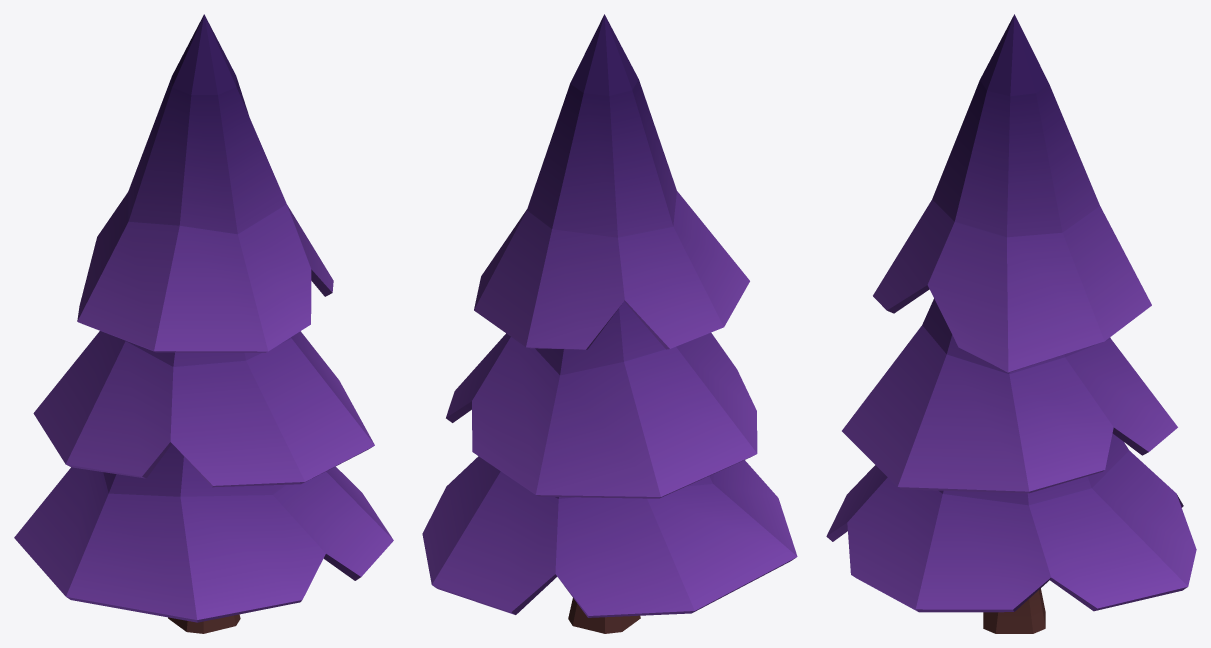
The model's file is MagicPine2.fbx.
3 renders of one model, left to right at view 1: azimuth 30°, elevation 25°; view 2: azimuth 150°, elevation 25°; view 3: azimuth 270°, elevation 25°, orthographic.
Parts seen in each view (by area): view 1: MagicPine2; view 2: MagicPine2; view 3: MagicPine2.
Boxes of the visible parts, left/top/right/bottom form: MagicPine2: left=14, top=14, right=393, bottom=633; MagicPine2: left=422, top=14, right=797, bottom=633; MagicPine2: left=826, top=14, right=1196, bottom=633.
Bounding box in the file's own units: 432 × 773 × 428.
